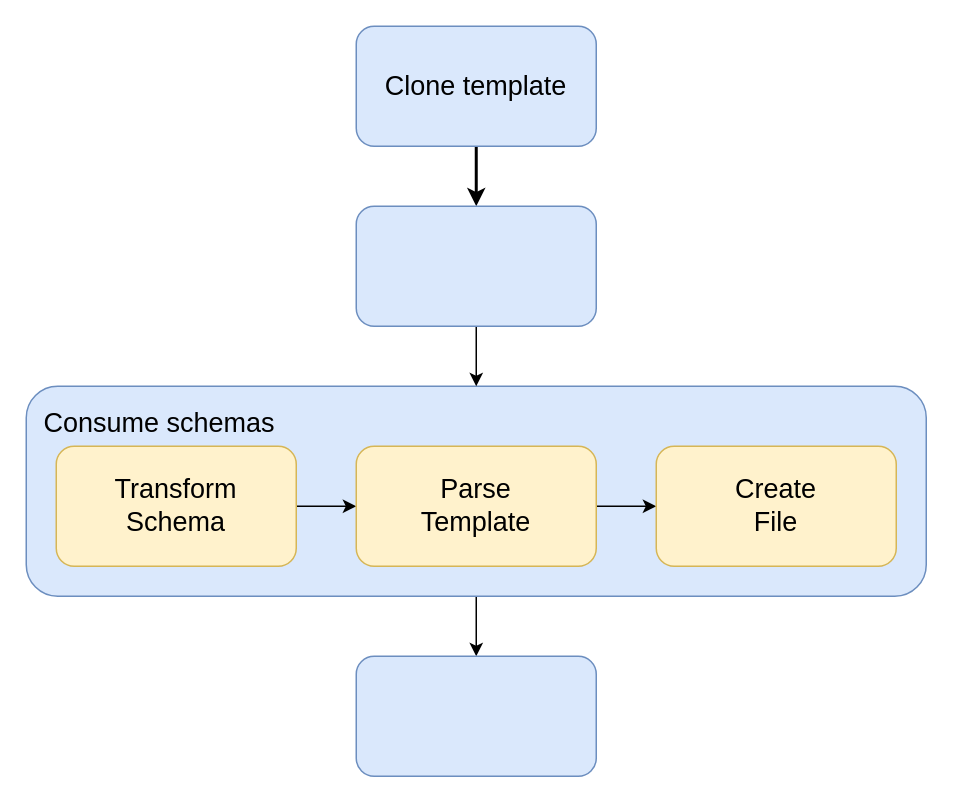
Image size: 953x803. Some labels were removed from this diagram. Each missing label, with the centre of its shape:
Build Project: point 475,715
Load Template: point 475,265
